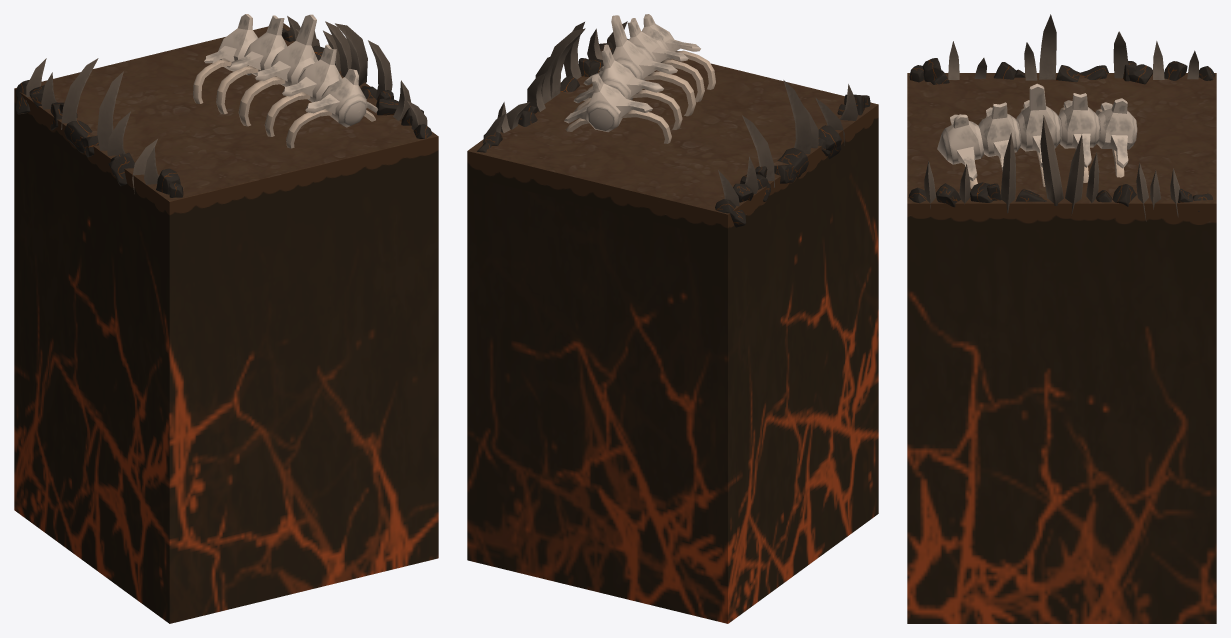
The model's file is Plataforma Hueso Izqu-Med.fbx.
3 views of the same model, side by side, from view 1: azimuth 30°, elevation 25°; view 2: azimuth 150°, elevation 25°; view 3: azimuth 270°, elevation 25° (orthographic). The views are drawn at different scales.
Parts seen in each view (by area): view 1: Plataforma 1.006, Cylinder.010, Cylinder.012, Cylinder.011, Cylinder.013, Cylinder.014, Cone.004, Cone.001, Cone.014, Cube.004, Cone.008, Cone.011 (+1 smaller); view 2: Plataforma 1.006, Cylinder.014, Cylinder.012, Cylinder.013, Cylinder.011, Cone.004, Cylinder.010, Cone.014, Cone.001, Cube.004; view 3: Plataforma 1.006, Cylinder.010, Cylinder.013, Cylinder.012, Cylinder.014, Cylinder.011, Cone.014, Cone.004, Cone.011, Cone.008, Cone.001, Cone.012.
Part boxes in pixels (x1,y1,x2,y2): Plataforma 1.006: (14,23,438,623); Cylinder.010: (305,69,378,127); Cylinder.012: (255,14,317,86); Cylinder.011: (282,44,341,102); Cylinder.013: (229,15,287,75); Cylinder.014: (204,14,257,75); Cone.004: (97,71,123,150); Cone.001: (61,58,98,129); Cone.014: (335,23,367,85); Cube.004: (238,76,285,126); Cone.008: (368,40,392,99); Cone.011: (325,21,351,77); Plataforma 1.006: (467,59,878,623); Cylinder.014: (564,74,652,132); Cylinder.012: (583,15,677,85); Cylinder.013: (573,44,663,103); Cylinder.011: (599,18,688,71); Cone.004: (783,80,812,153); Cylinder.010: (641,14,700,59); Cone.014: (550,28,585,98); Cone.001: (742,115,774,187); Cube.004: (644,71,695,116); Plataforma 1.006: (907,73,1216,623); Cylinder.010: (937,114,983,180); Cylinder.013: (1058,93,1100,167); Cylinder.012: (1016,83,1061,167); Cylinder.014: (1097,98,1137,168); Cylinder.011: (978,102,1020,170); Cone.014: (1040,115,1063,205); Cone.004: (1039,14,1056,79); Cone.011: (1065,134,1084,216); Cone.008: (1000,133,1015,213); Cone.001: (1113,31,1128,78); Cone.012: (1086,152,1099,202).
Bounding box in the file's own units: 1058 × 1818 × 1000.
